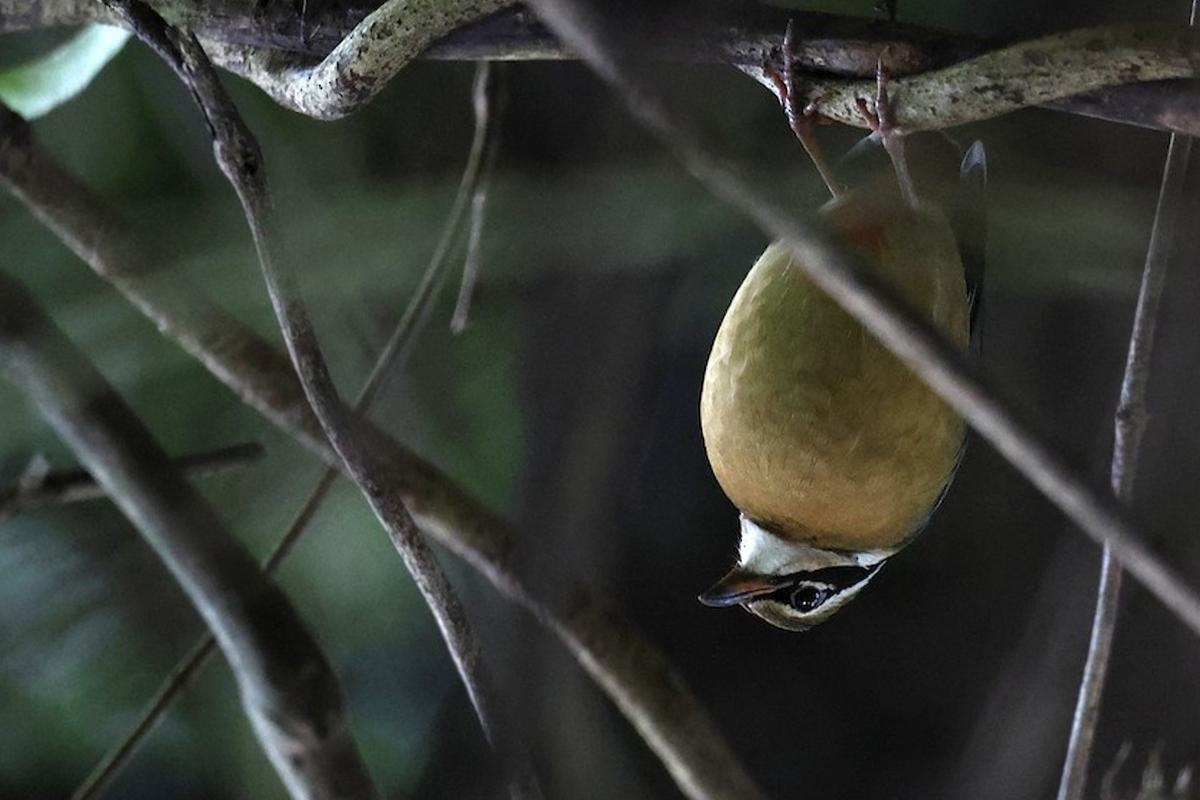pitta: (636, 80, 1025, 640)
